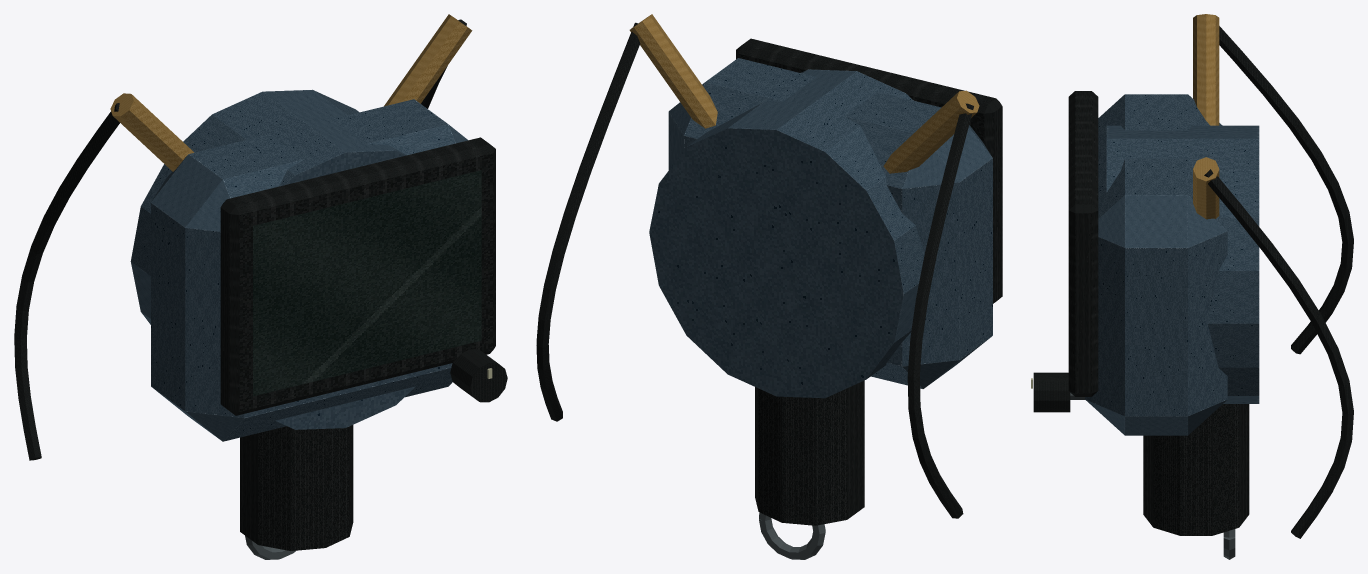
Rendered from blender_barometric_probe_2.glb.
3 renders of one model, left to right at view 1: azimuth 30°, elevation 25°; view 2: azimuth 150°, elevation 25°; view 3: azimuth 270°, elevation 25°, orthographic. The views are drawn at different scales.
Visible parts, largest first — view 1: blender_barometric_probe_2; view 2: blender_barometric_probe_2; view 3: blender_barometric_probe_2.
Part boxes in pixels (bbox=[...]): blender_barometric_probe_2: bbox=[14, 14, 507, 559]; blender_barometric_probe_2: bbox=[536, 14, 1002, 559]; blender_barometric_probe_2: bbox=[1031, 14, 1353, 559].
Size of the model in its own units: 0.136 by 0.1567 by 0.0973.
Materials: 6 (6 with a texture image).
